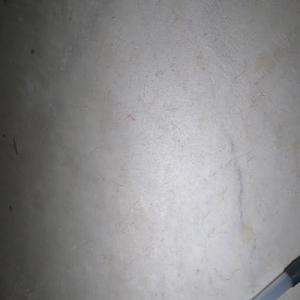Pen: (252, 255, 300, 300)
